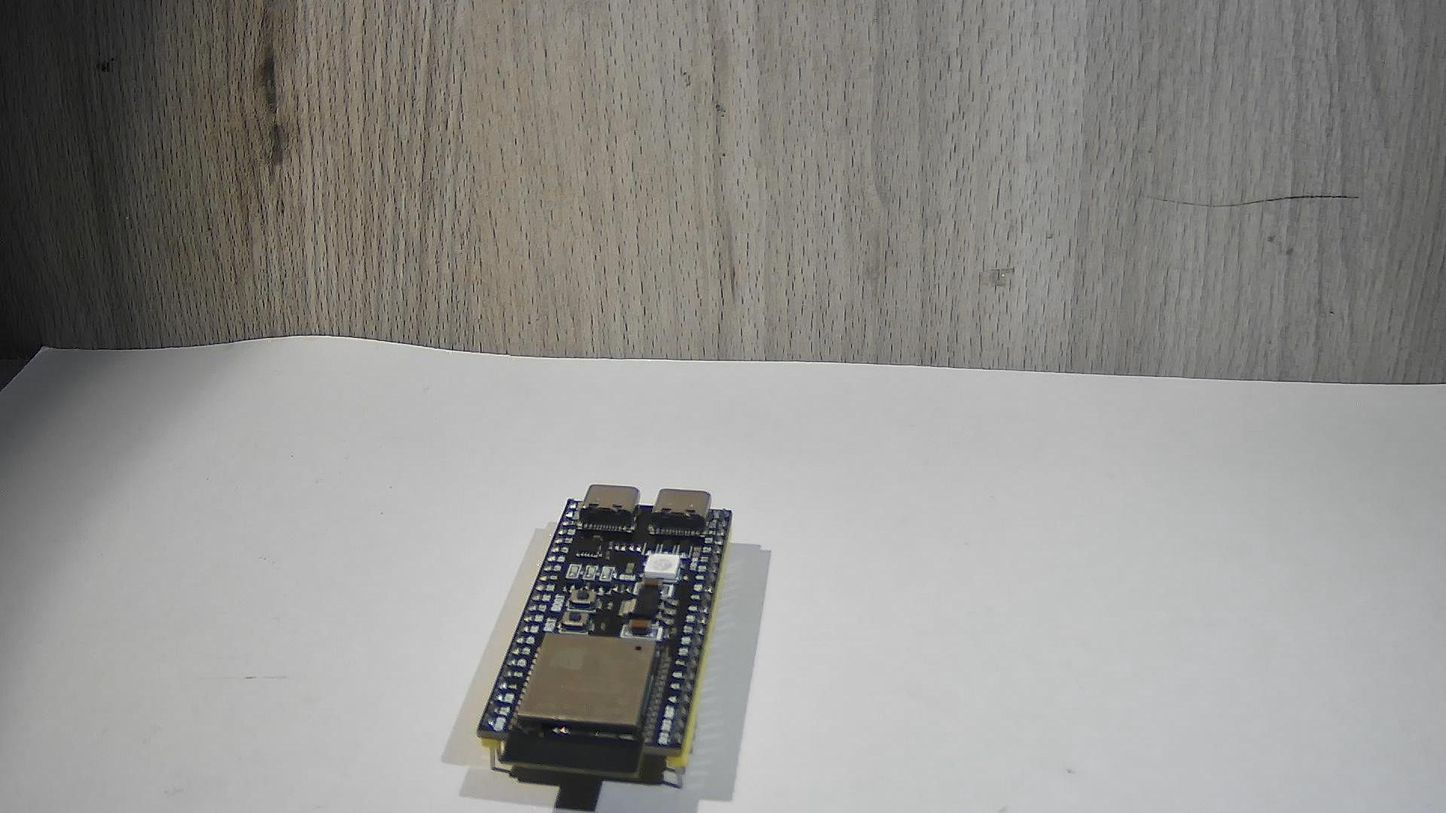ESP32: (469, 439, 761, 813)
